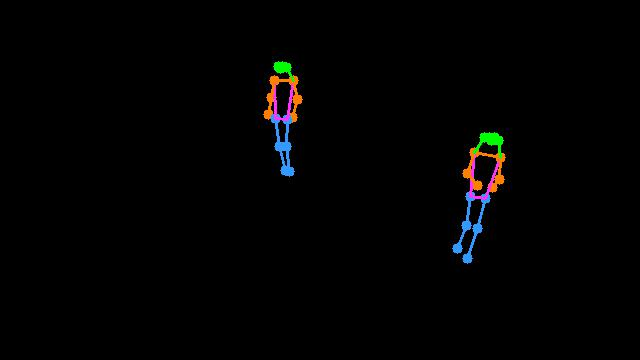normal: (444, 111, 522, 271)
